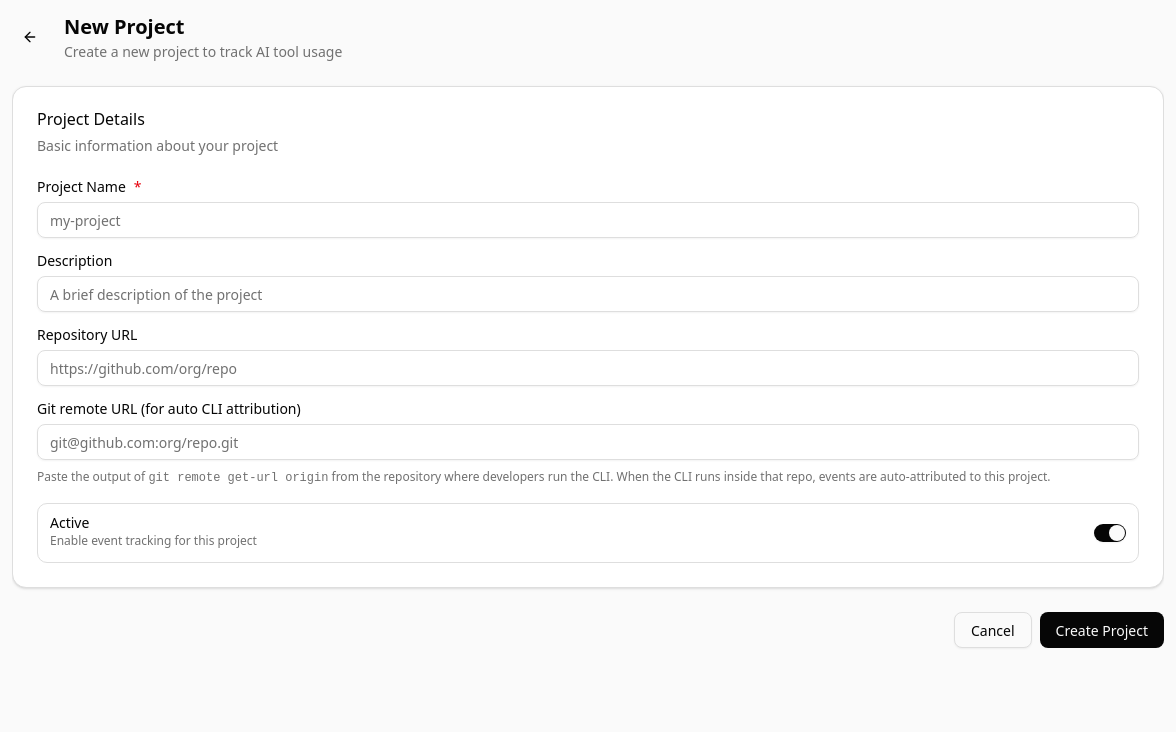
ProjectForm › validation › shows error when name is less than 2 characters
The width and height of the screenshot is (1176, 732).
In the field labelled "Project Name *": (588, 220) [37,202,1139,238], type "A"
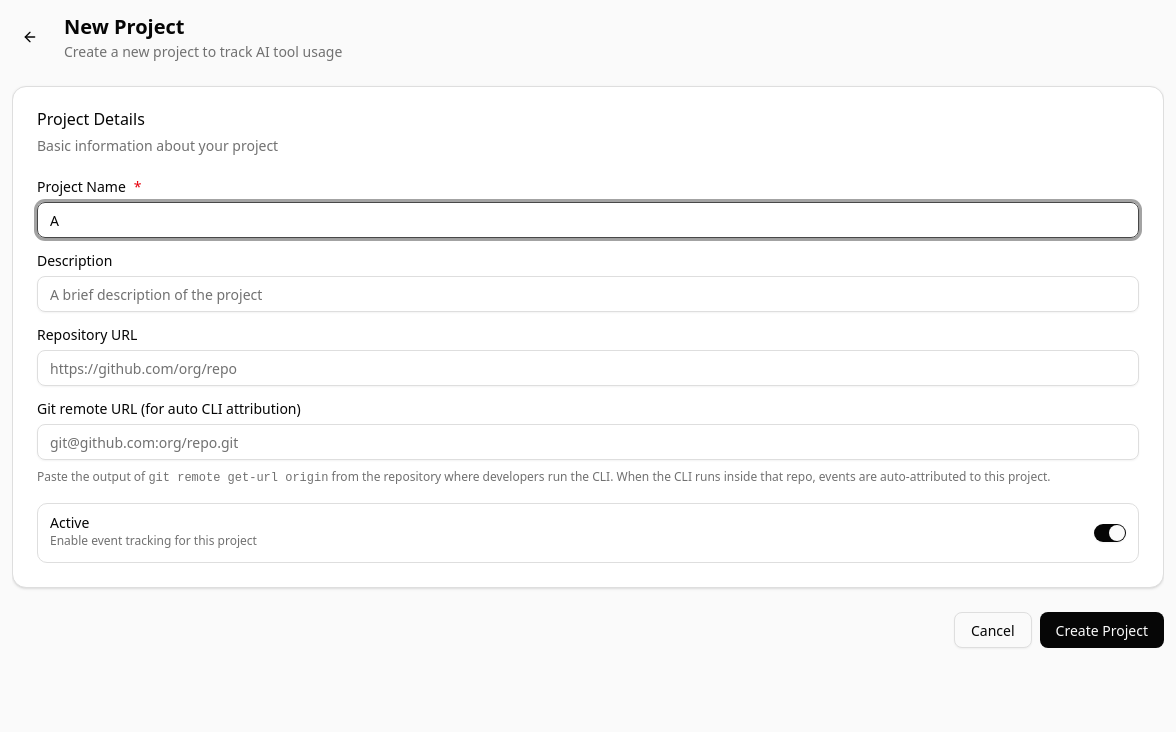
Click the button "Create Project": (1102, 630) [1040,612,1164,648]
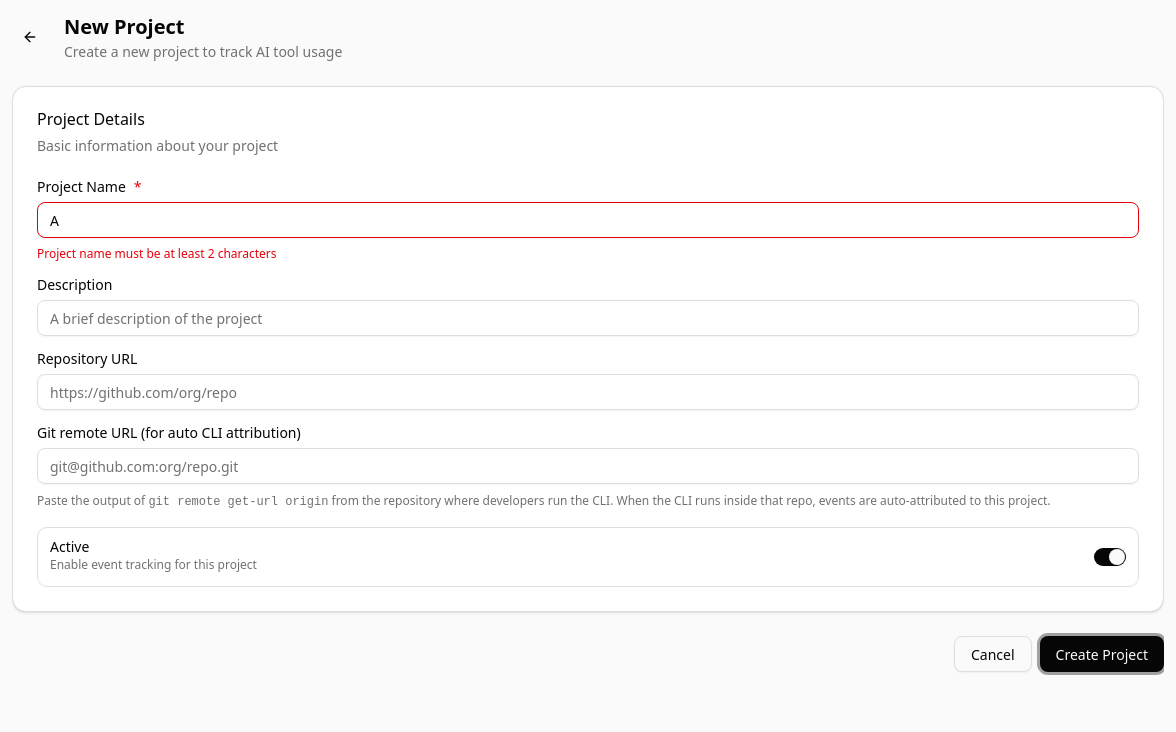
Check: the text "Project name must be at least 2 characters" is shown, box [37,245,277,262]
